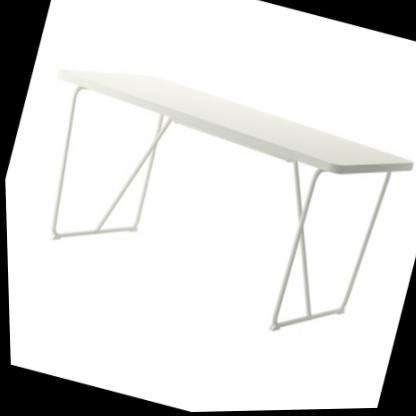Table: (1, 38, 416, 366)
